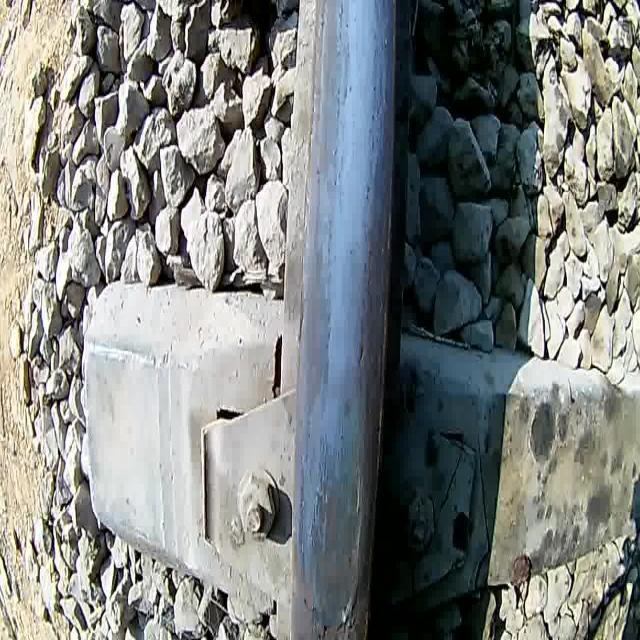Spallings: (334, 552, 365, 640), (316, 613, 332, 640)
Squats: (296, 427, 366, 640)
